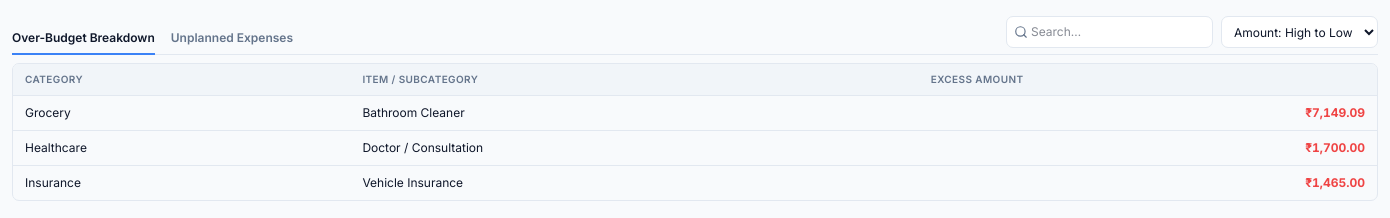
Test case: BudgetFlagsTableInner › search › shows a distinct "no matches" message from the true empty state
The image size is (1390, 218).
Step 1. Type "zzz-nope" into the field named "Search category or item" → (1110, 32), box left=1006, top=16, right=1213, bottom=48
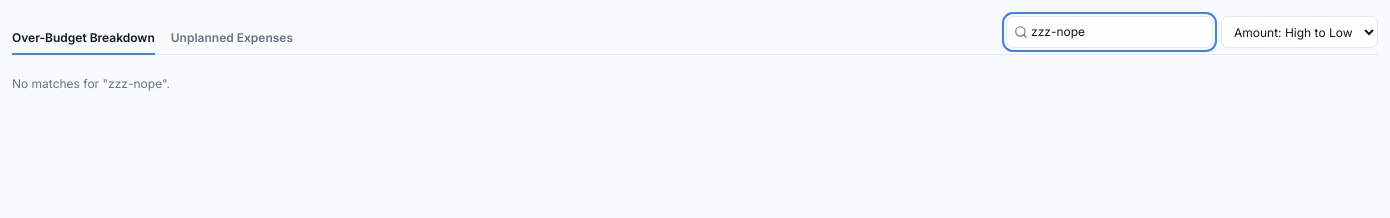
Expected: the text "No matches for \"zzz-nope\"." is shown, left=12, top=76, right=170, bottom=91
